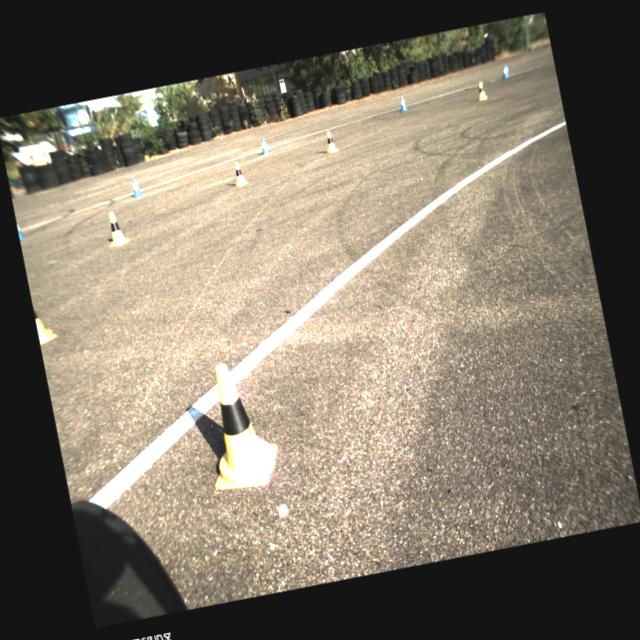blue_cone: (129, 176, 144, 198), (260, 138, 270, 156), (500, 65, 510, 79), (398, 96, 408, 110)
yellow_cone: (192, 356, 284, 494), (103, 210, 131, 248), (231, 160, 249, 187), (323, 130, 339, 153), (476, 82, 488, 100)
